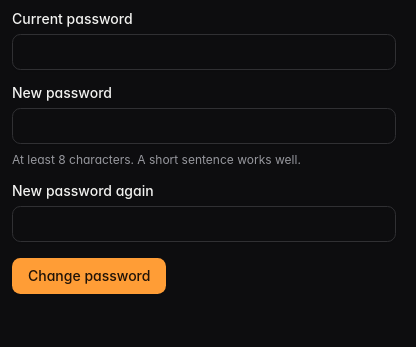
Test: the change password form › shows the server message when the current password is wrong, and says nothing changed
Type "wrong password" into the password field labelled "Current password" at (204, 52), box [12,34,396,70]
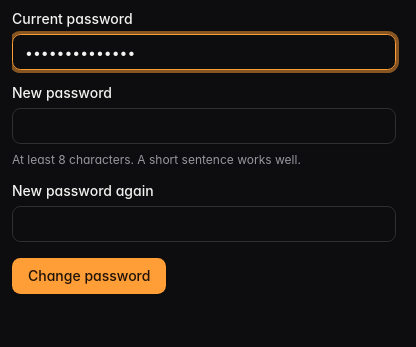
Type "a new sentence" into the password field labelled "New password" at (204, 126), box [12,108,396,144]
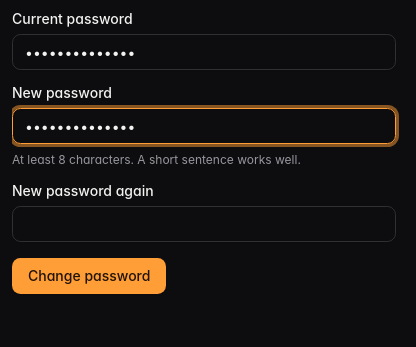
Type "a new sentence" into the password field labelled "New password again" at (204, 224), box [12,206,396,242]
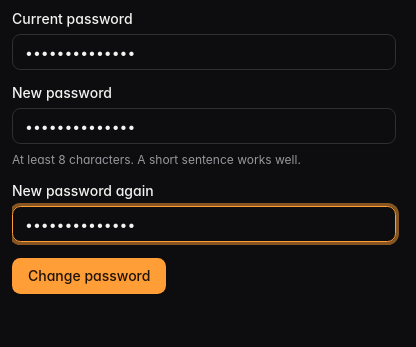
Click the button "Change password" at (89, 276), box [12,258,166,294]
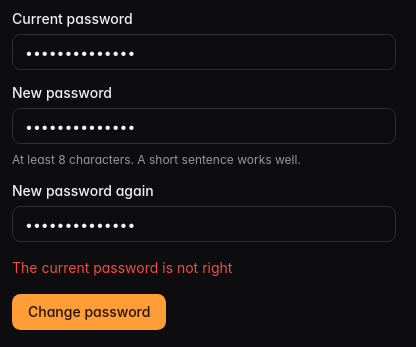
Check: the button "Change password" is enabled, box [12,294,166,330]
Check: the message reads "The current password is not right", box [12,259,232,276]
